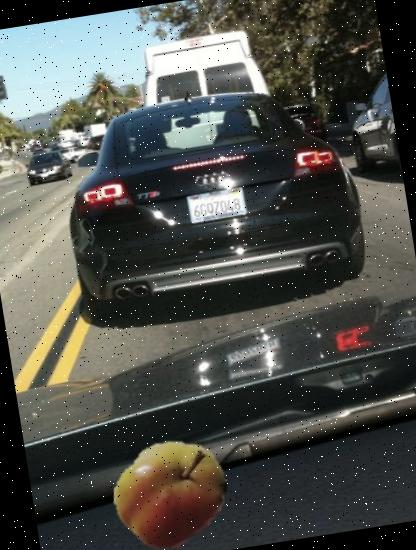Apple: (106, 430, 235, 550)
